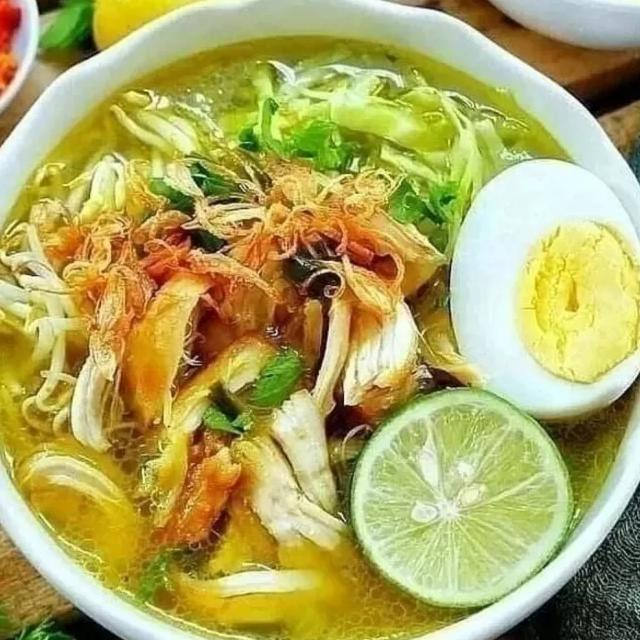Soto: (0, 9, 633, 632)
